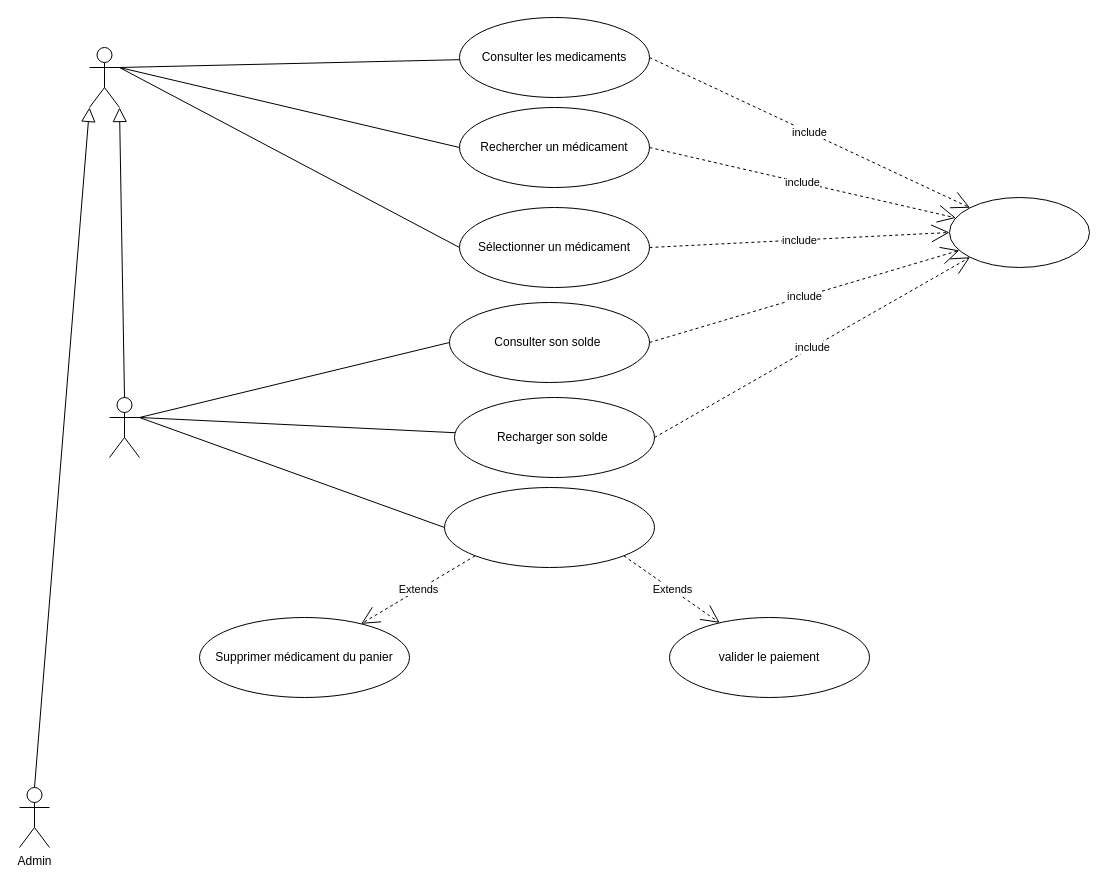
Some shapes in this 1107 by 886 pixel diagram are drawn without their labels. The shapes that lost their labels are listed below. From the top down, each one's centre as x and y in pixels, then its label:
pixel 104 77: Personne
pixel 1019 232: S'authentifier
pixel 124 427: Utilisateur
pixel 549 527: Ajouter un médicament au panier
